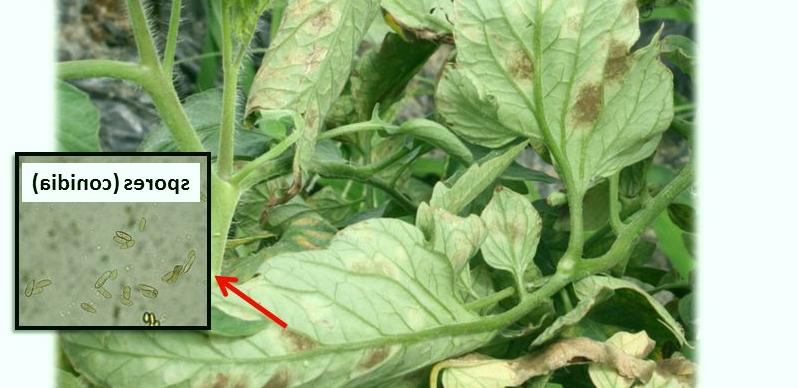Tomato mold leaf: (75, 202, 492, 388), (447, 0, 676, 199), (247, 0, 437, 174), (474, 183, 552, 283)
